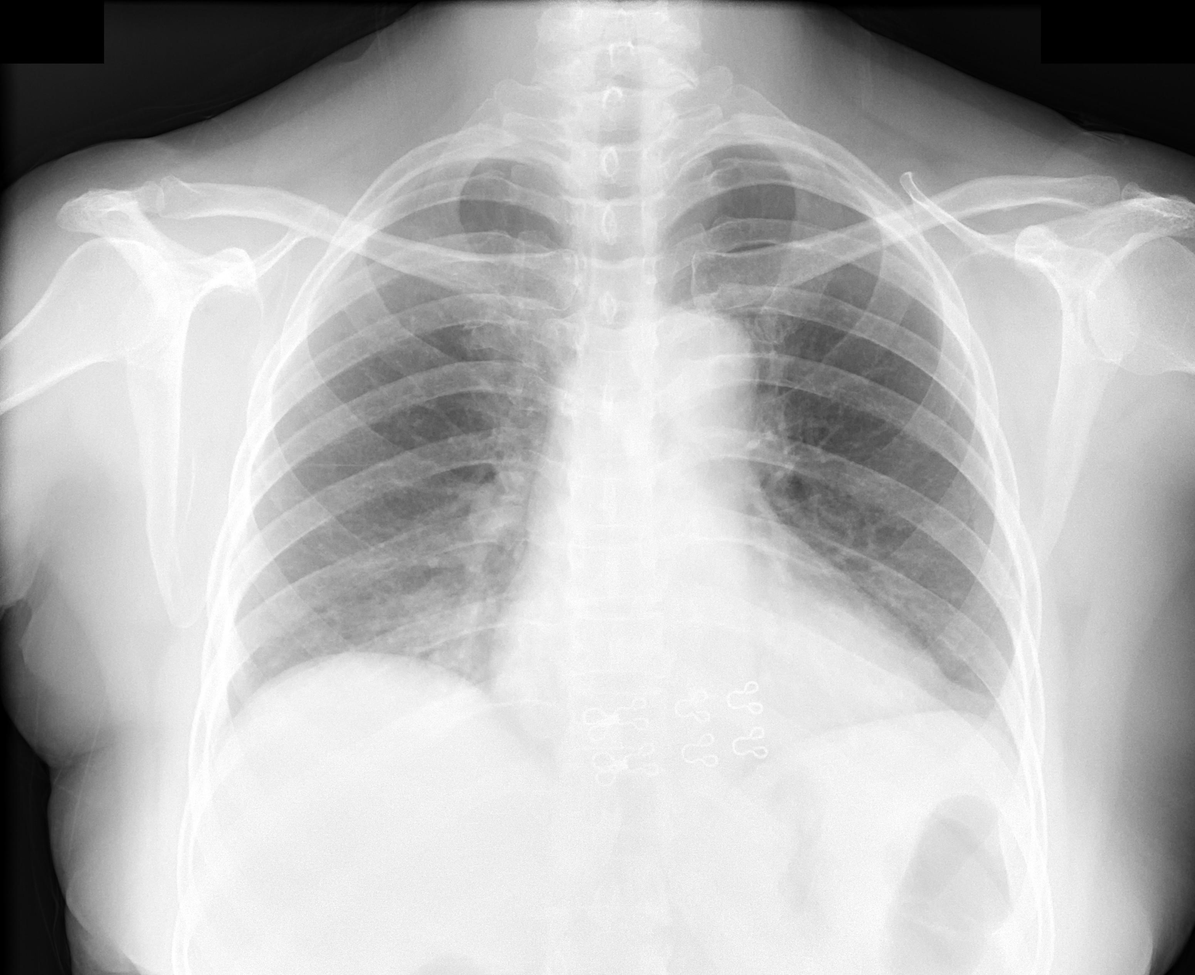Aortic enlargement: (624, 309, 761, 441)
Cardiomegaly: (486, 609, 962, 746)
Pleural thickening: (203, 681, 237, 743)
